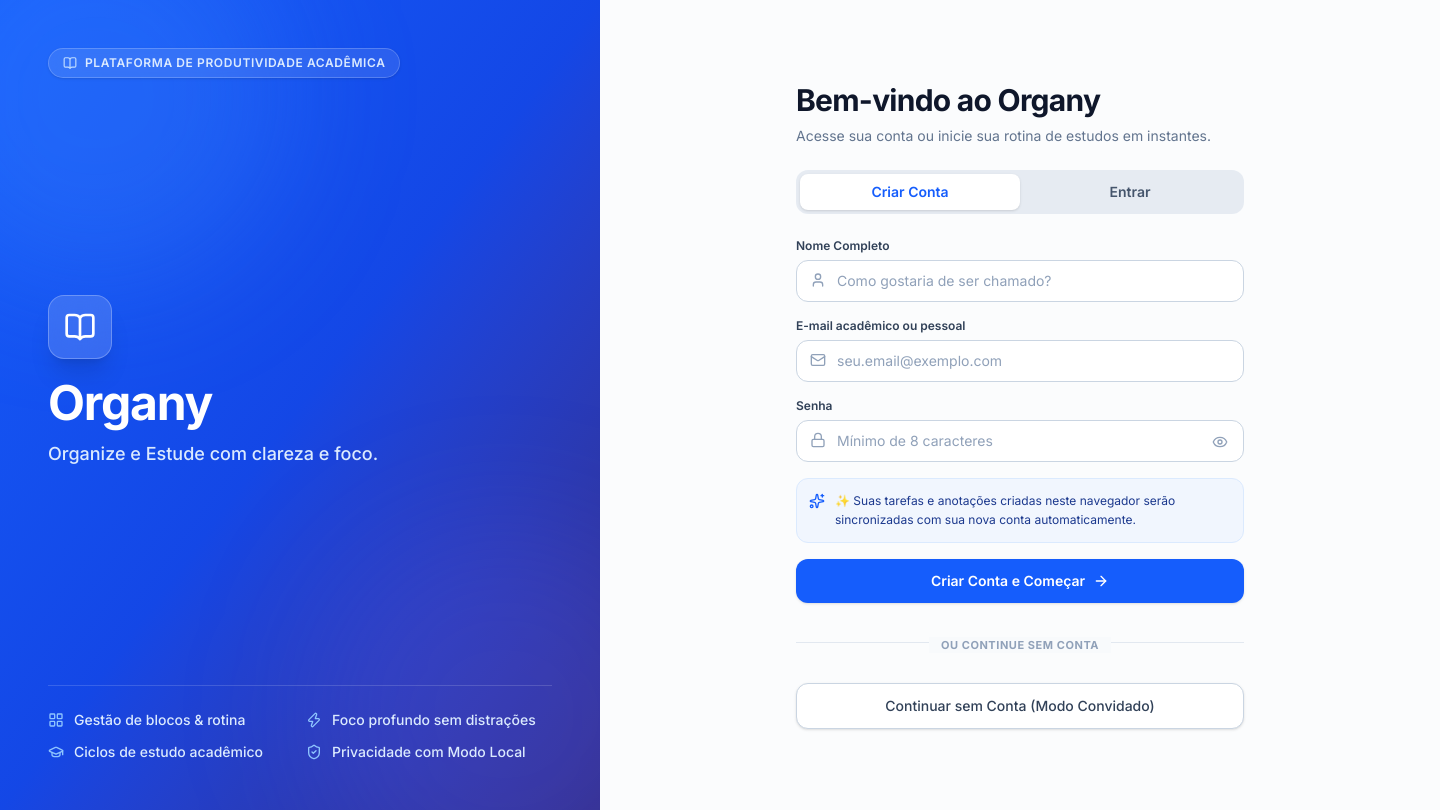
Test: AuthView Component › abre o GuestModeWarningModal ao clicar em "Continuar sem Conta (Modo Convidado)"
Click the button "Continuar sem Conta (Modo Convidado)": [1020, 706] box x1=796 y1=682 x2=1244 y2=728
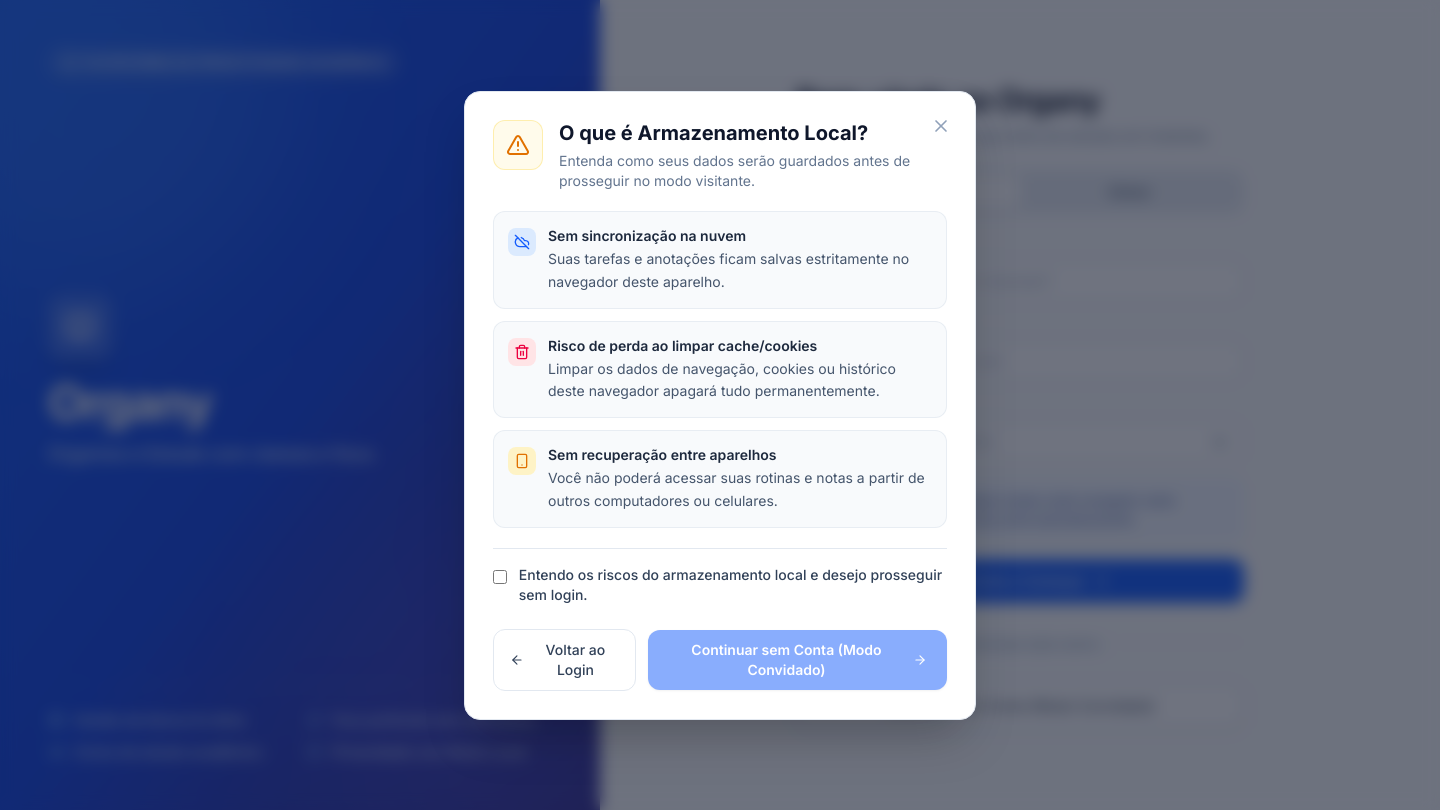
Result: the dialog is shown
Result: the heading "O que é Armazenamento Local?" is shown at x1=559 y1=120 x2=868 y2=144
